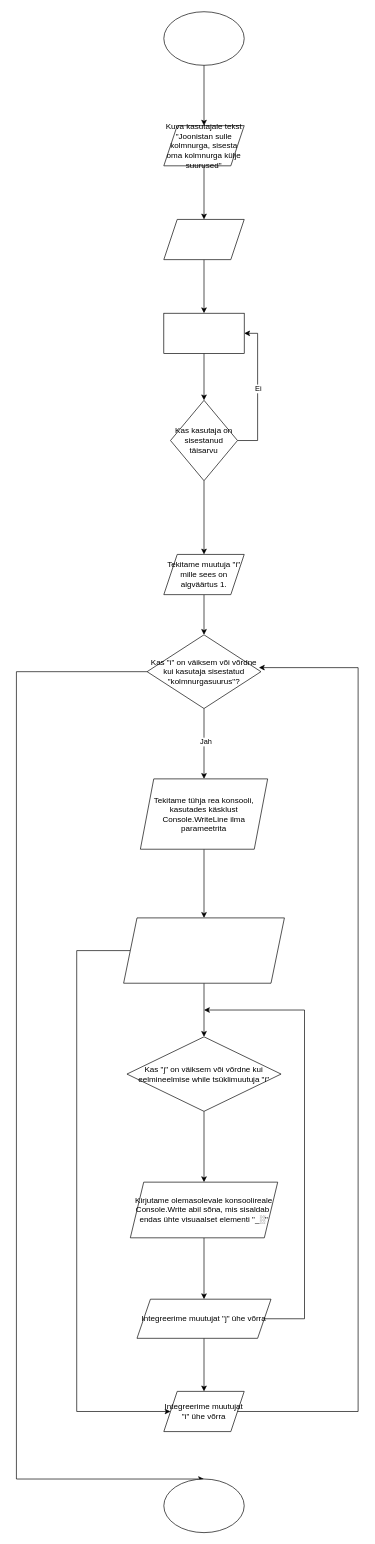
Image size: 375x1544. Some labels were removed from this diagram. Here are the shapes that lost their labels. From the top down, the centre of each, then its label:
(x=203, y=38): Algus
(x=203, y=239): Tekitame muutuja nimega "kolmnurgasuurus" kuhu tuleb käsurealt täisarv.
(x=203, y=333): Ootab kasutajalt sisendit
(x=203, y=950): Tekitame muutujua "j" mille sees on algväärtus 1
(x=203, y=1505): Lõpp
